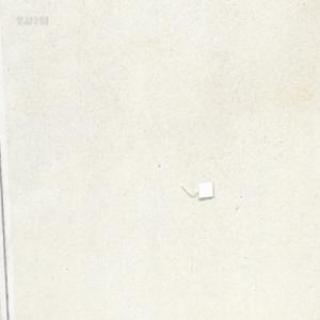LuggageTagtrack_idkeyframe: (179, 178, 214, 198)
